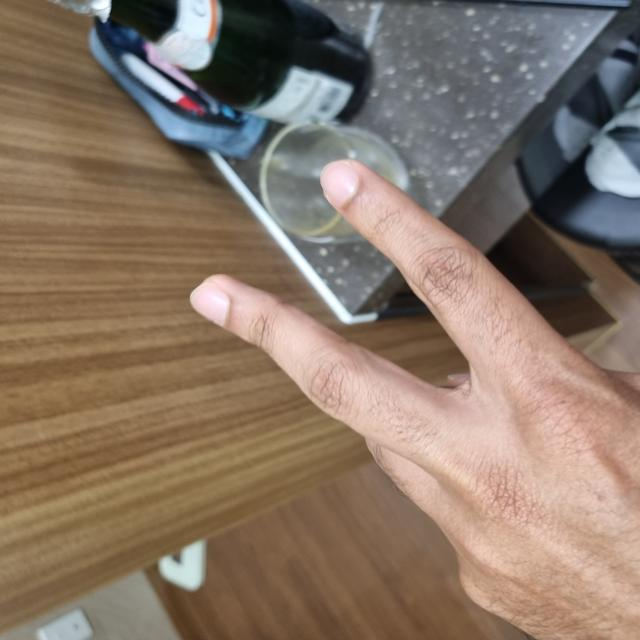Scissors: (0, 189, 482, 639)
